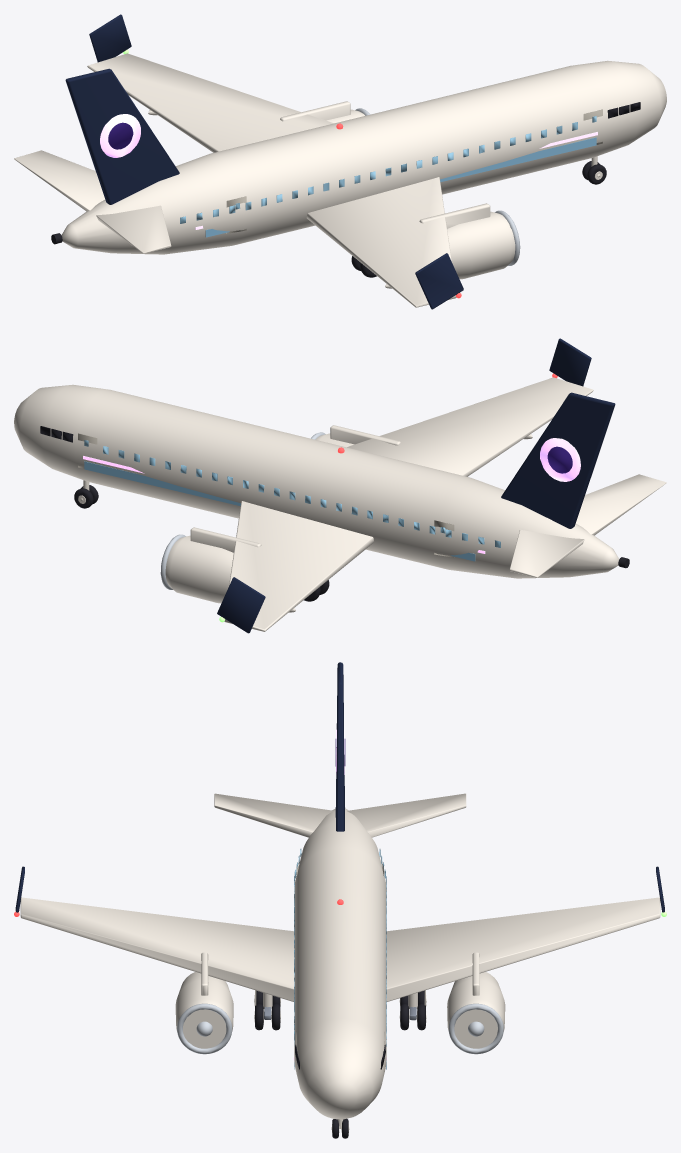
File: airliner.glb
3 views of the same model, one above another, from view 1: azimuth 30°, elevation 25°; view 2: azimuth 150°, elevation 25°; view 3: azimuth 270°, elevation 25° (orthographic). The views are drawn at different scales.
Visible parts, largest first — view 1: airliner; view 2: airliner; view 3: airliner.
Boxes of the visible parts, left/top/right/bottom form: airliner: left=14, top=14, right=666, bottom=309; airliner: left=14, top=338, right=666, bottom=633; airliner: left=14, top=662, right=666, bottom=1138.
Size of the model in its own units: 28.25 by 10.25 by 26.94.
1 material, 1 textured.
